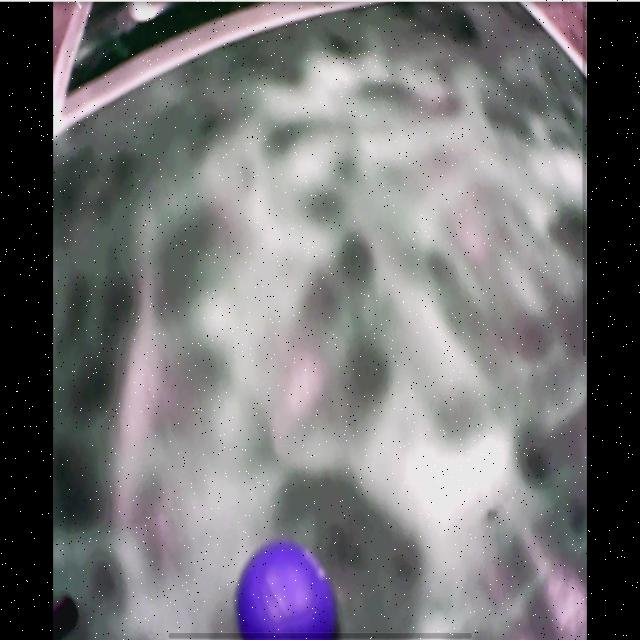ball: (236, 544, 337, 640)
